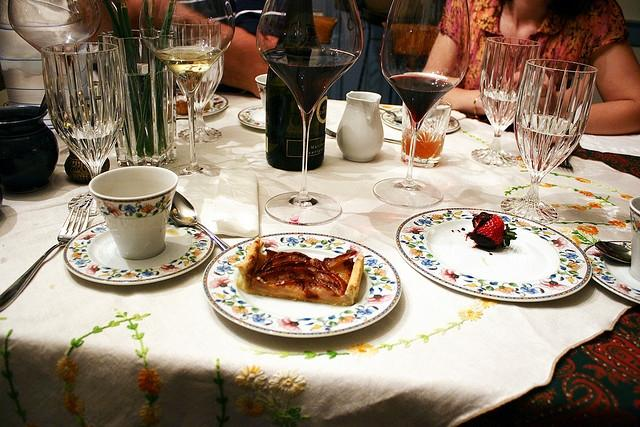strawberry: (474, 214, 505, 245)
